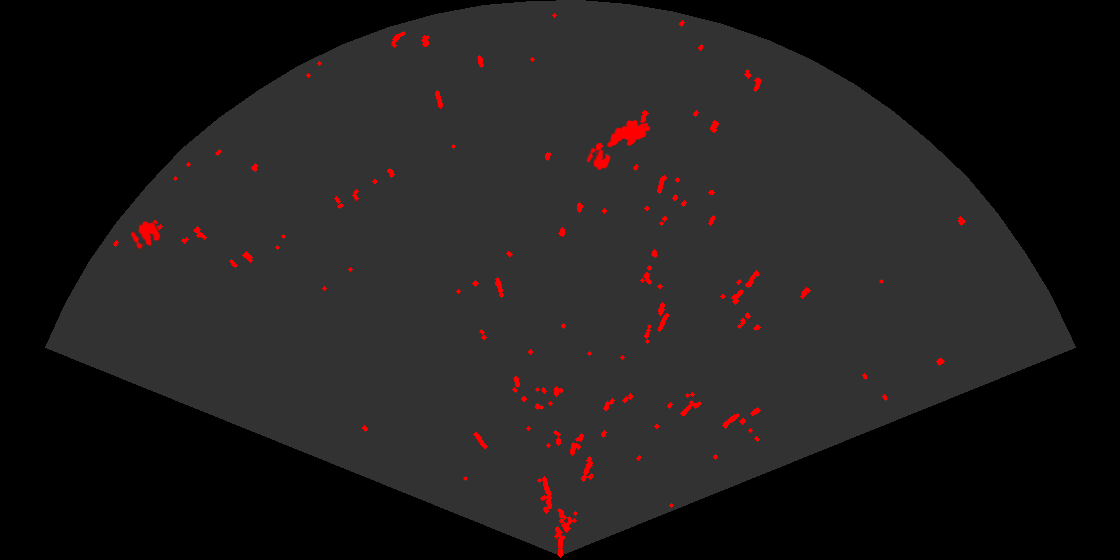AUV: (606, 118, 652, 149)
ball: (129, 220, 162, 251), (585, 146, 612, 172)
